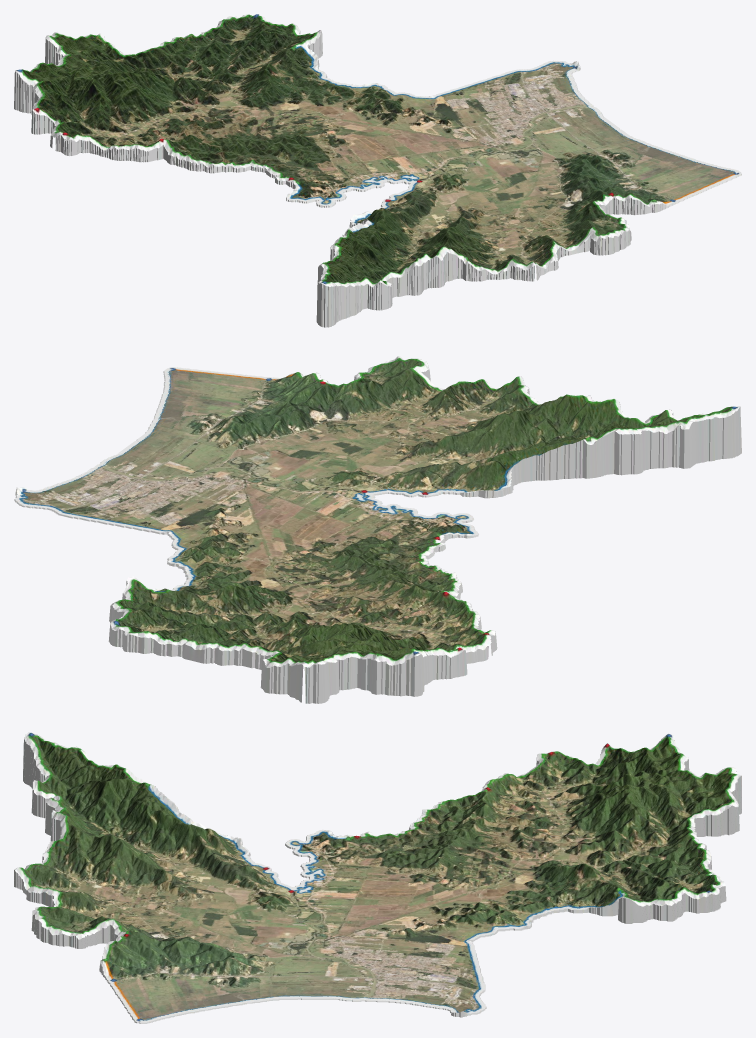
The picture shows the model from 3 angles, top to bottom: view 1: azimuth 30°, elevation 25°; view 2: azimuth 150°, elevation 25°; view 3: azimuth 270°, elevation 25°; orthographic projection. The views are drawn at different scales.
Size of the model in its own units: 0.9991 by 0.0829 by 1.2.
1 material, 1 textured.
